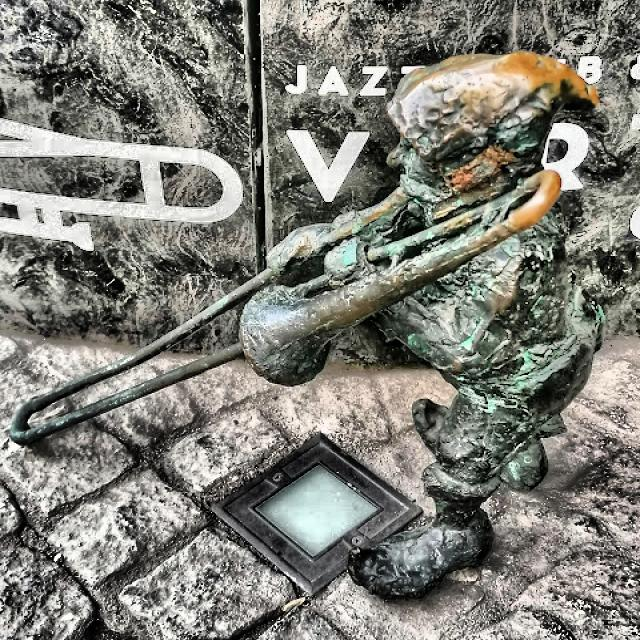Vertigus: (11, 53, 598, 597)
